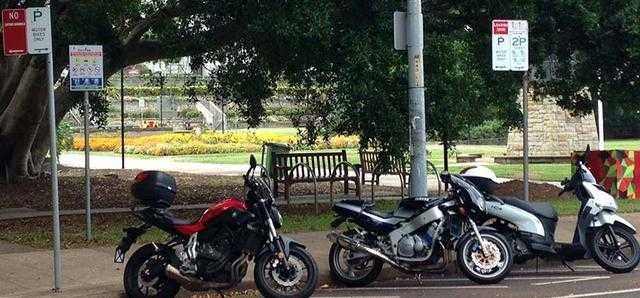motorbike: (115, 153, 319, 298), (327, 169, 515, 285), (480, 145, 640, 274)
